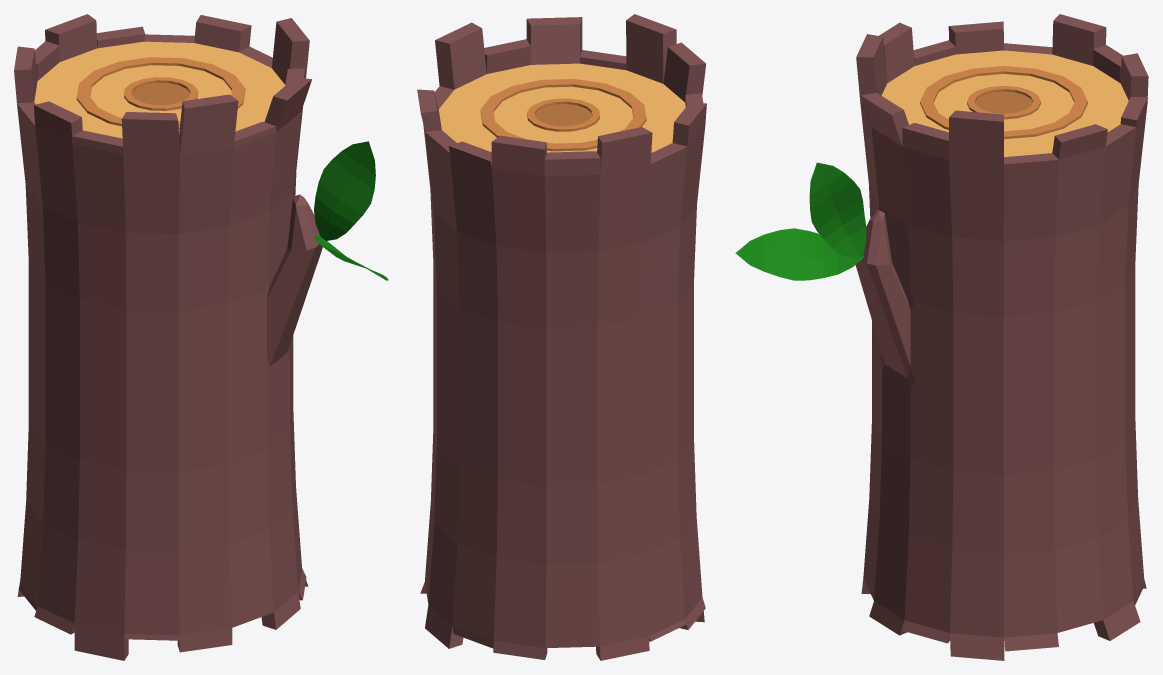
The model's file is wood_0.fbx.
The picture shows the model from 3 angles, left to right: view 1: azimuth 30°, elevation 25°; view 2: azimuth 150°, elevation 25°; view 3: azimuth 270°, elevation 25°; orthographic projection.
Parts seen in each view (by area): view 1: wood_0; view 2: wood_0; view 3: wood_0.
Part boxes in pixels (x1,y1,x2,y2): wood_0: (14, 14, 388, 660); wood_0: (417, 14, 706, 660); wood_0: (735, 14, 1148, 660).
Bounding box in the file's own units: 641 × 1319 × 901.
